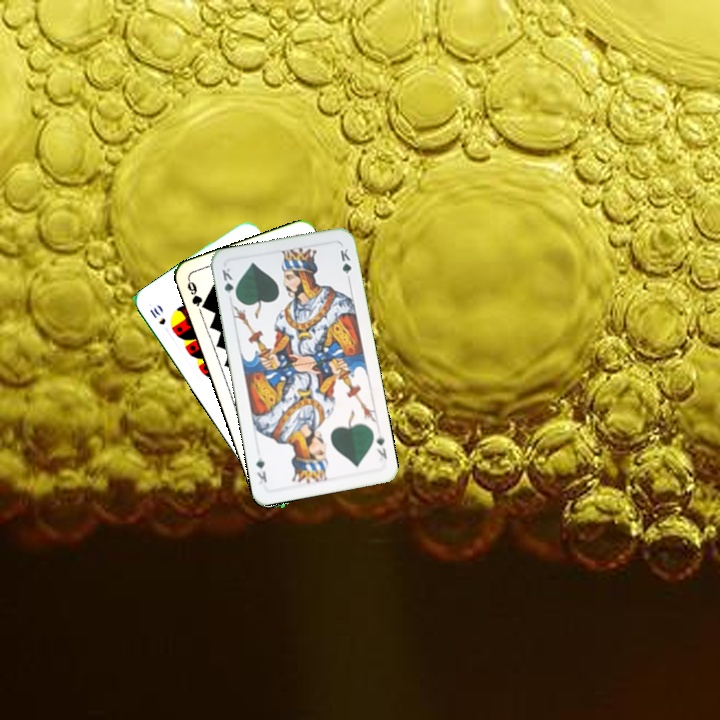G9: (183, 275, 210, 312)
GK: (218, 264, 239, 302), (372, 430, 389, 465)
S10: (146, 303, 168, 327)
